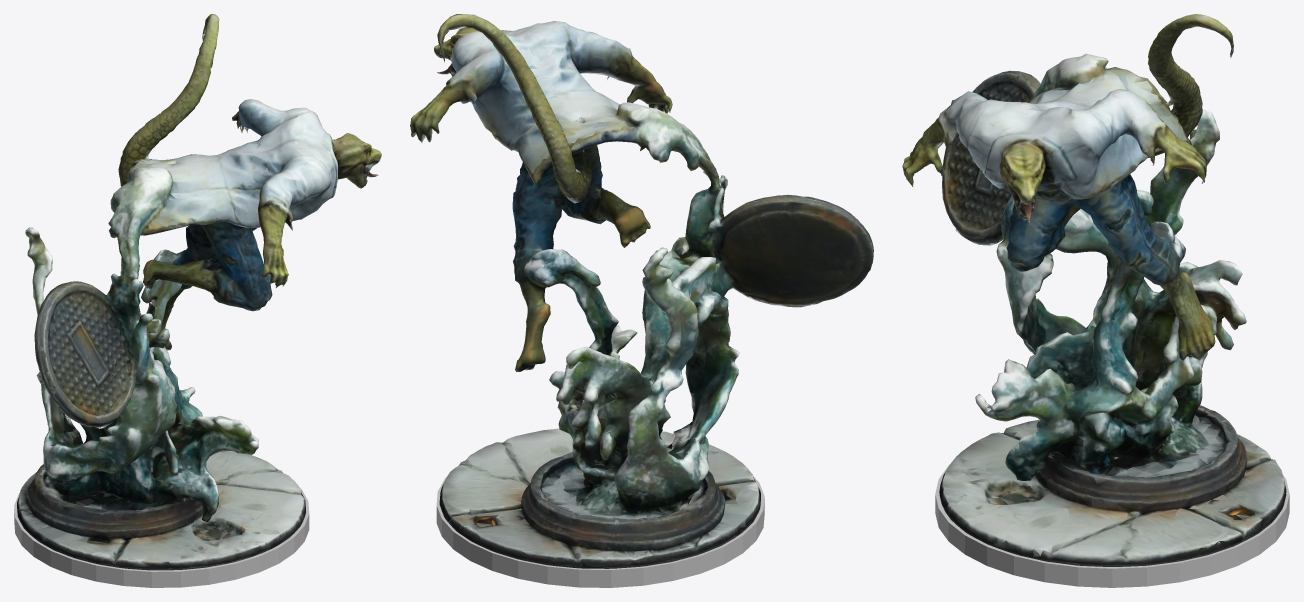
The picture shows the model from 3 angles, left to right: view 1: azimuth 30°, elevation 25°; view 2: azimuth 150°, elevation 25°; view 3: azimuth 270°, elevation 25°; orthographic projection. The views are drawn at different scales.
Parts seen in each view (by area): view 1: Lizard, default; view 2: Lizard, default; view 3: Lizard, default.
Part boxes in pixels (<box>): Lizard: <box>17,14,381,570</box>; default: <box>14,487,309,587</box>; Lizard: <box>410,14,873,568</box>; default: <box>436,477,764,587</box>; Lizard: <box>902,14,1286,566</box>; default: <box>935,464,1289,587</box>.
Size of the model in its own units: 2.82 by 3.37 by 2.15.
2 materials, 1 textured.
